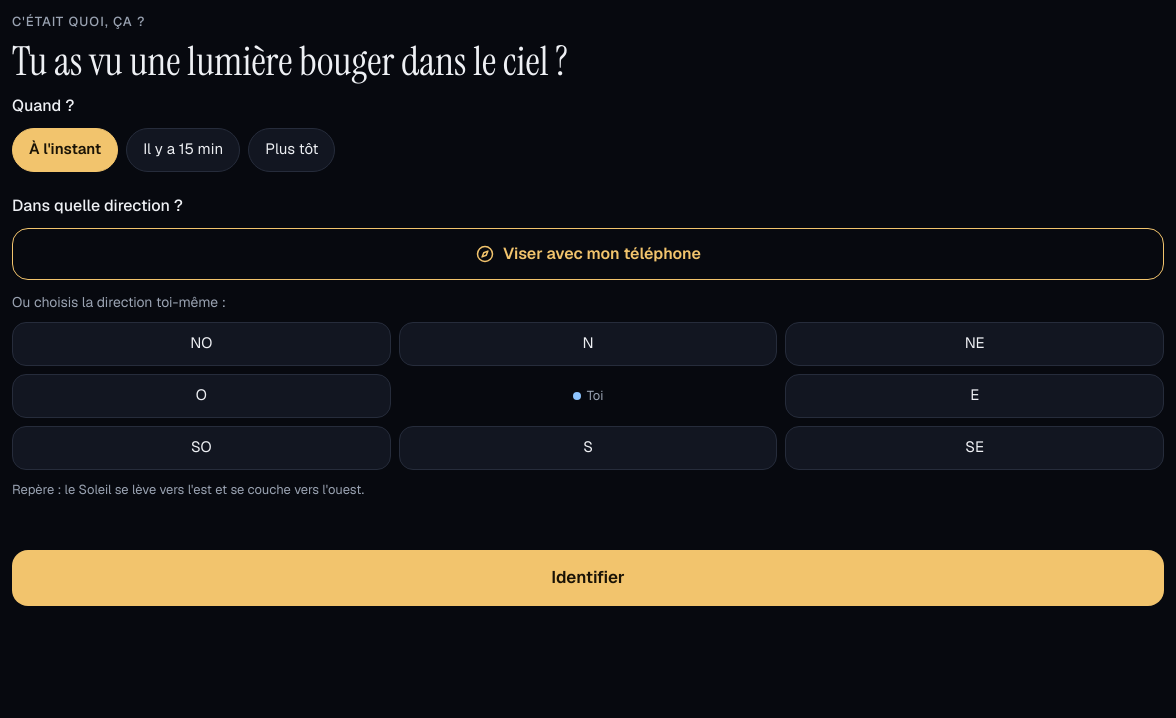
la page « C'était quoi ? » › arrête de viser quand le visiteur demande à identifier
Click the button "Viser avec mon téléphone".
click(588, 254)  # box [12, 228, 1164, 280]
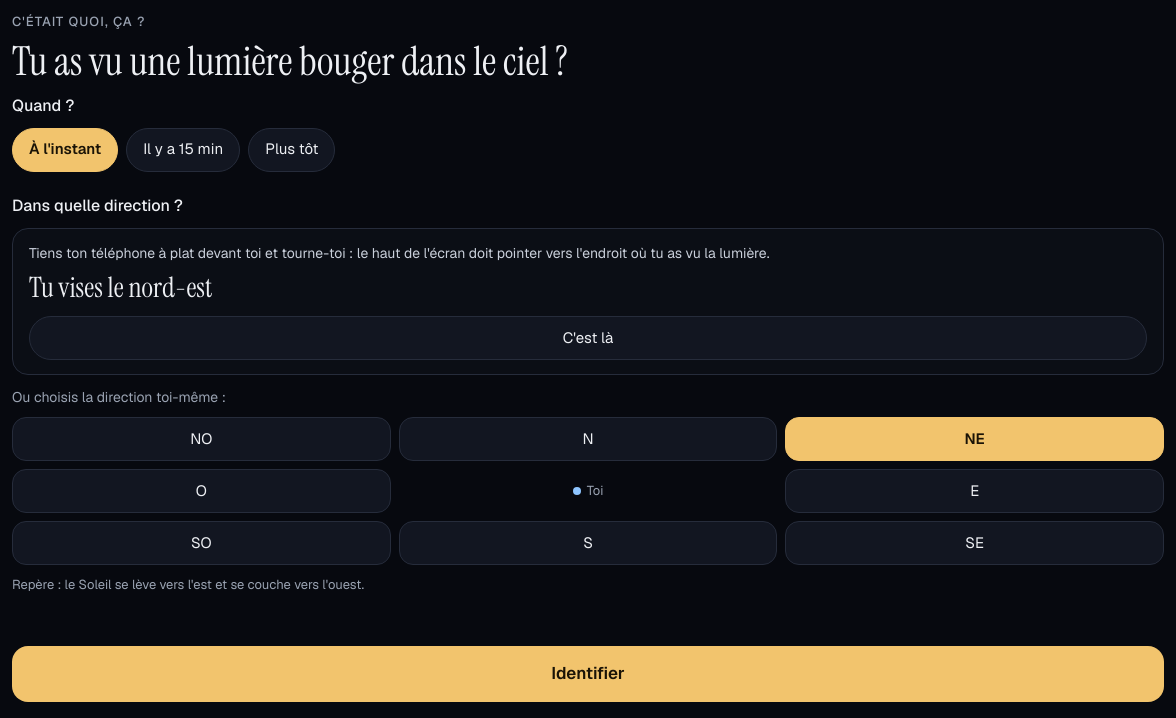
Click the button "Identifier".
click(588, 674)  # box [12, 646, 1164, 702]
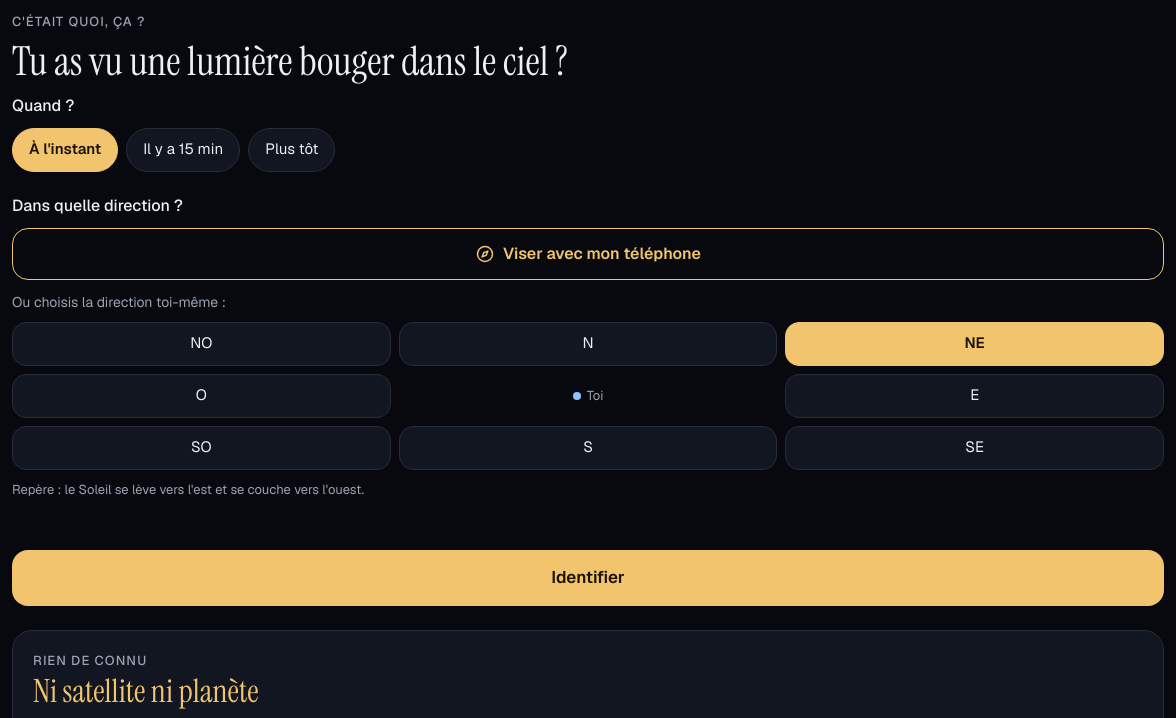
Result: the button "Viser avec mon téléphone" is shown at [12, 228, 1164, 280]
Result: the heading "Ni satellite ni planète" is shown at [33, 670, 258, 712]
